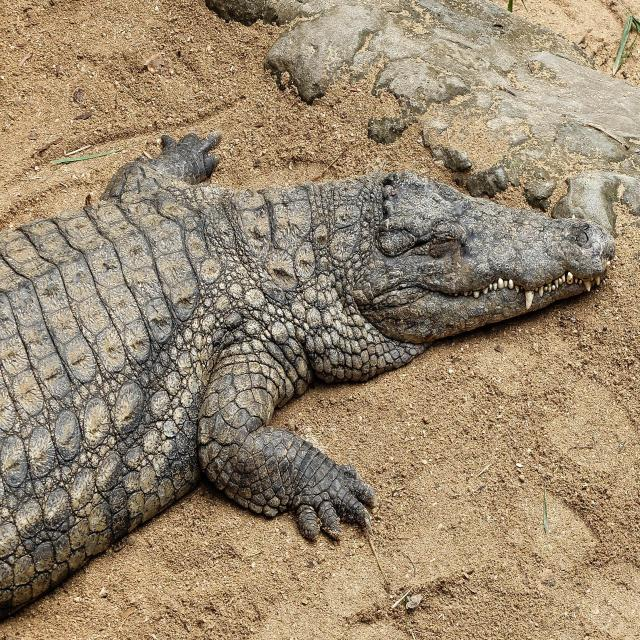crocodile: (0, 113, 627, 640)
